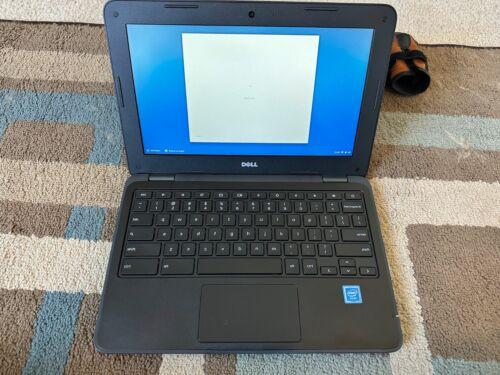laptop: (91, 0, 414, 358)
